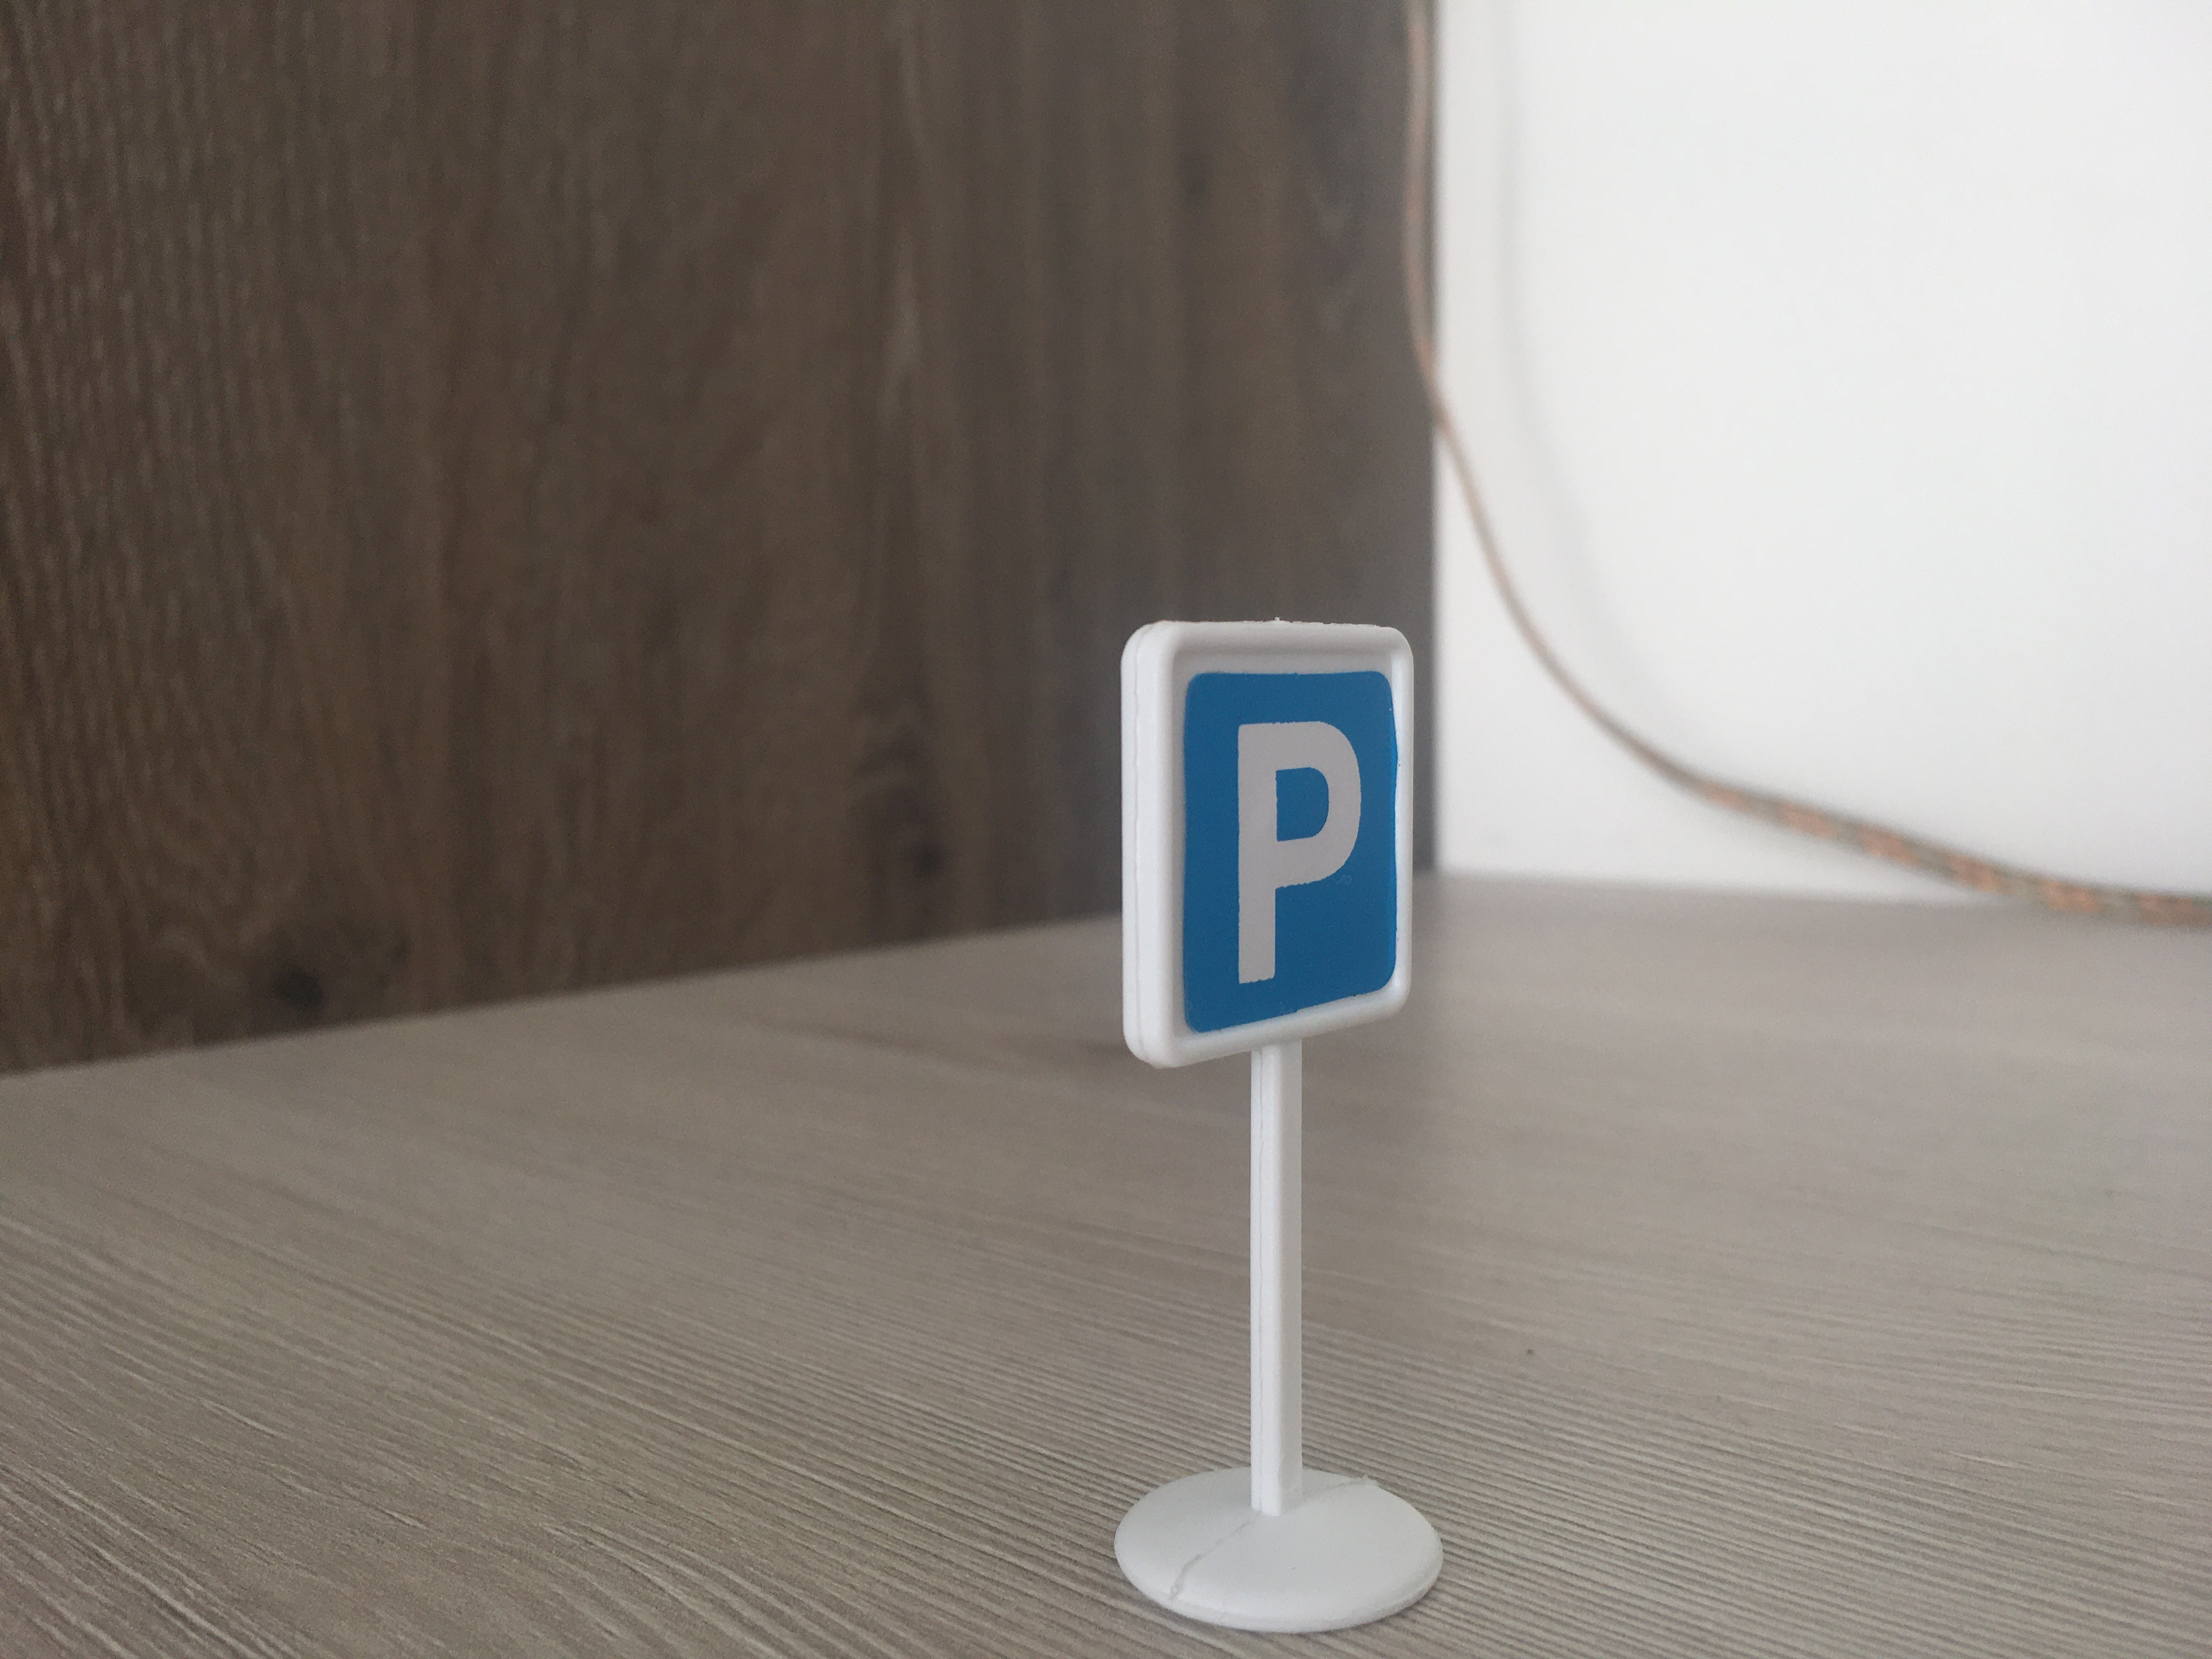parking: (1118, 617, 1418, 1082)
